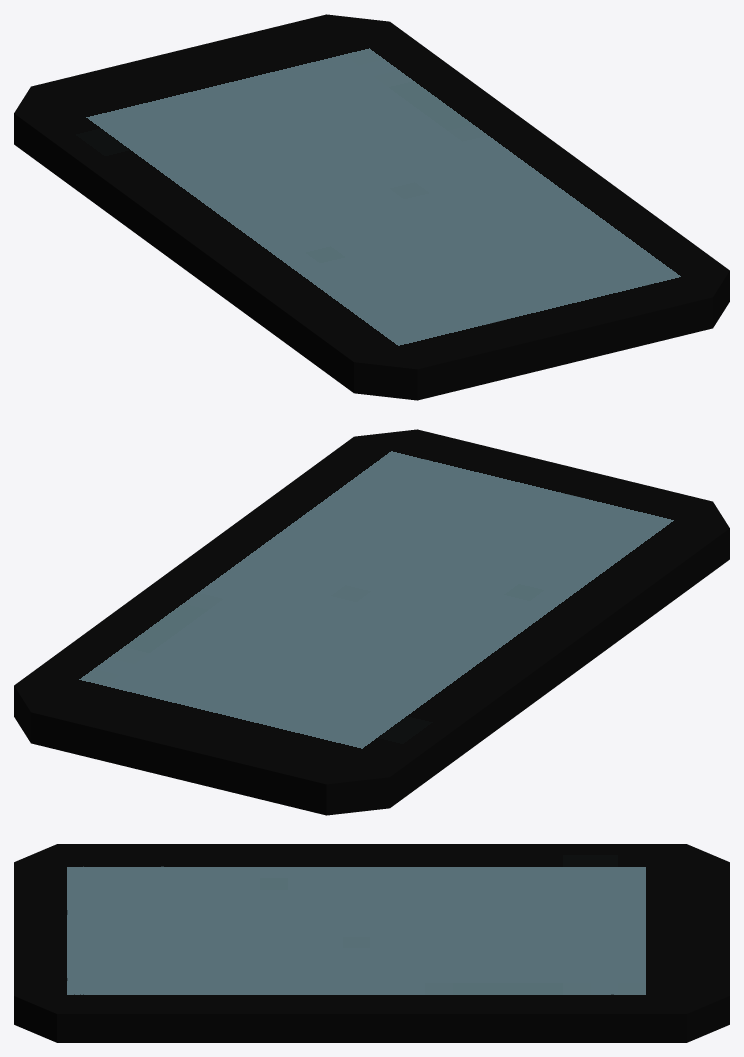
The model's file is Phone.fbx.
3 views of the same model, one above another, from view 1: azimuth 30°, elevation 25°; view 2: azimuth 150°, elevation 25°; view 3: azimuth 270°, elevation 25° (orthographic). The views are drawn at different scales.
Visible parts, largest first — view 1: Phone; view 2: Phone; view 3: Phone.
Boxes of the visible parts, box(x1,y1,x2,y2) form: Phone: box(14, 14, 729, 400); Phone: box(14, 429, 729, 815); Phone: box(14, 844, 729, 1042).
Bounding box in the file's own units: 0.8461 × 0.0669 × 1.51.
